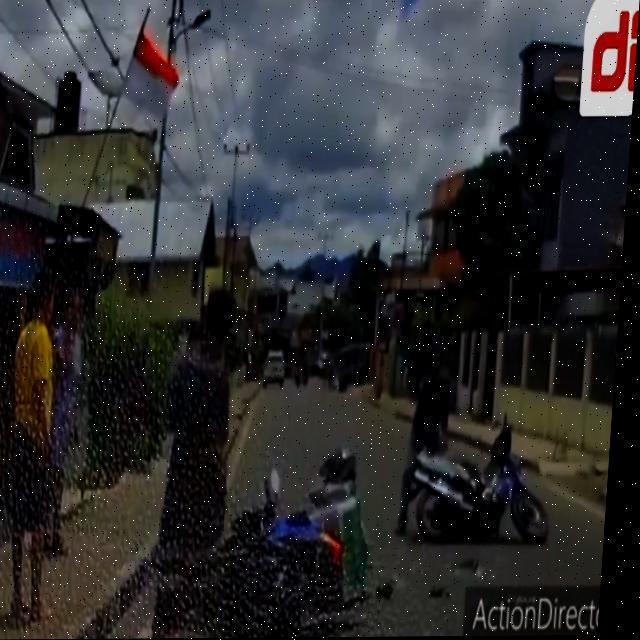multiple_accident: (217, 379, 603, 636)
